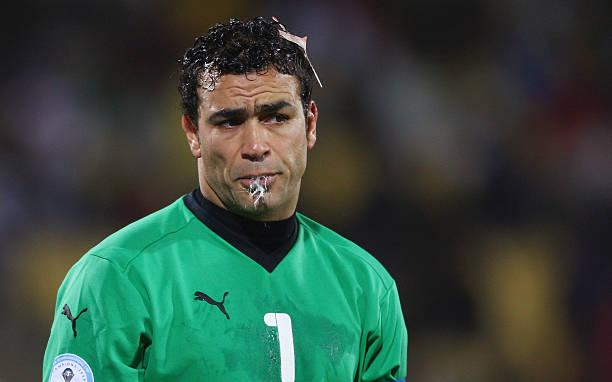Spitting: (153, 7, 352, 237)
